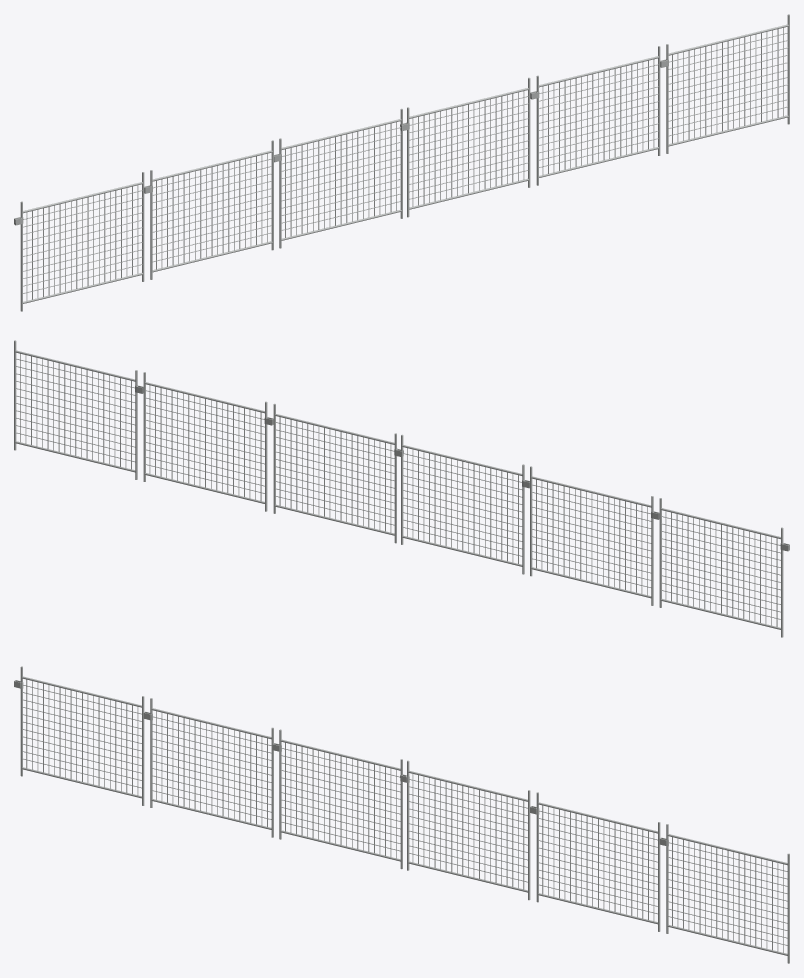
The model's file is fence.gltf.
The picture shows the model from 3 angles, top to bottom: view 1: azimuth 30°, elevation 25°; view 2: azimuth 150°, elevation 25°; view 3: azimuth 330°, elevation 25°; orthographic projection.
Parts seen in each view (by area): view 1: Metal_fence.004, Metal_fence.006, Metal_fence.002, Metal_fence.003, Metal_fence.005, Metal_fence.001, Metal_fence; view 2: Metal_fence.006, Metal_fence.004, Metal_fence.005, Metal_fence.002, Metal_fence.003, Metal_fence.001, Metal_fence; view 3: Metal_fence.006, Metal_fence.004, Metal_fence.005, Metal_fence.002, Metal_fence.003, Metal_fence.001, Metal_fence.
Part boxes in pixels (<box>): Metal_fence.004: <box>530,46,660,185</box>; Metal_fence.006: <box>14,172,144,311</box>; Metal_fence.002: <box>144,140,273,279</box>; Metal_fence.003: <box>274,108,402,248</box>; Metal_fence.005: <box>660,14,789,153</box>; Metal_fence.001: <box>466,77,530,195</box>; Metal_fence: <box>400,103,466,217</box>; Metal_fence.006: <box>659,498,789,637</box>; Metal_fence.004: <box>143,372,273,511</box>; Metal_fence.005: <box>14,340,143,479</box>; Metal_fence.002: <box>530,466,659,605</box>; Metal_fence.003: <box>401,434,529,574</box>; Metal_fence.001: <box>273,403,338,521</box>; Metal_fence: <box>337,429,403,543</box>; Metal_fence.006: <box>14,666,144,805</box>; Metal_fence.004: <box>530,792,660,931</box>; Metal_fence.005: <box>659,824,789,963</box>; Metal_fence.002: <box>143,698,273,837</box>; Metal_fence.003: <box>272,729,402,869</box>; Metal_fence.001: <box>465,784,530,900</box>; Metal_fence: <box>400,760,465,877</box>.
Bounding box in the file's own units: 15.37 × 2.07 × 0.0597.
6 materials, 6 textured.
